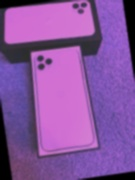iphone: (34, 49, 88, 150)
